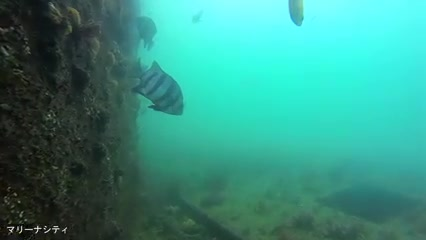ishidai: (135, 59, 192, 119)
